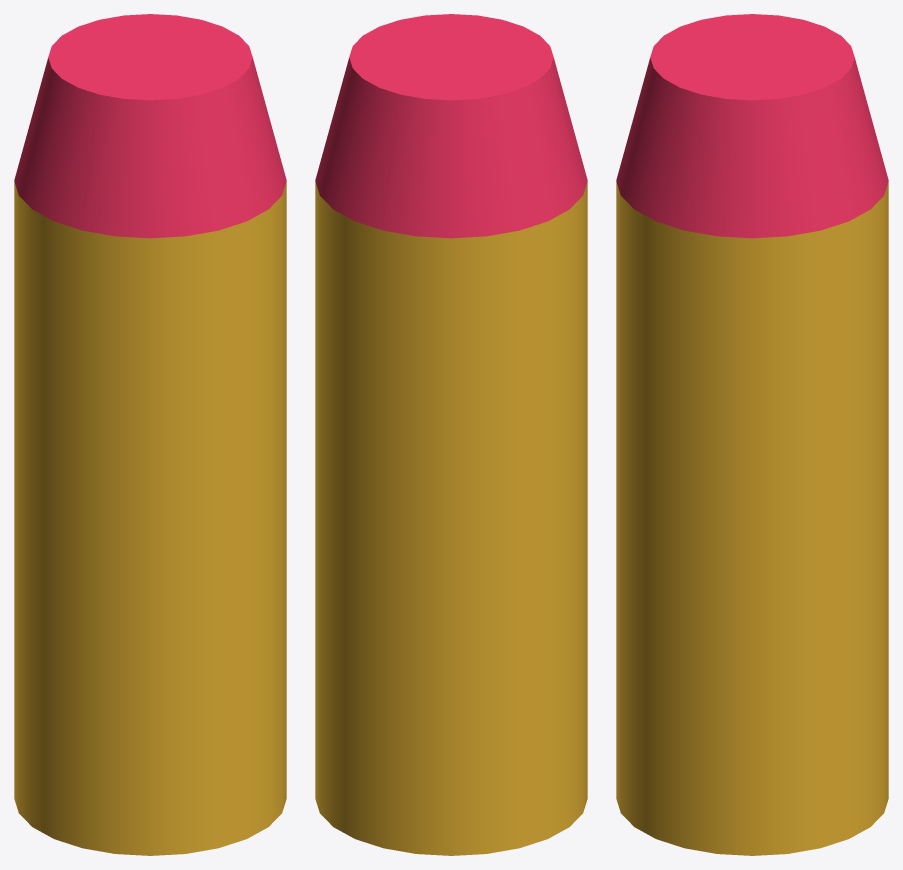
The model's file is foamBulletB.glb.
3 views of the same model, side by side, from view 1: azimuth 30°, elevation 25°; view 2: azimuth 150°, elevation 25°; view 3: azimuth 270°, elevation 25° (orthographic).
Visible parts, largest first — view 1: foamBulletB; view 2: foamBulletB; view 3: foamBulletB.
Part boxes in pixels (x1,y1,x2,y2): foamBulletB: (14,14,286,855); foamBulletB: (315,14,587,855); foamBulletB: (616,14,888,855).
Bounding box in the file's own units: 0.02 × 0.06 × 0.02.
